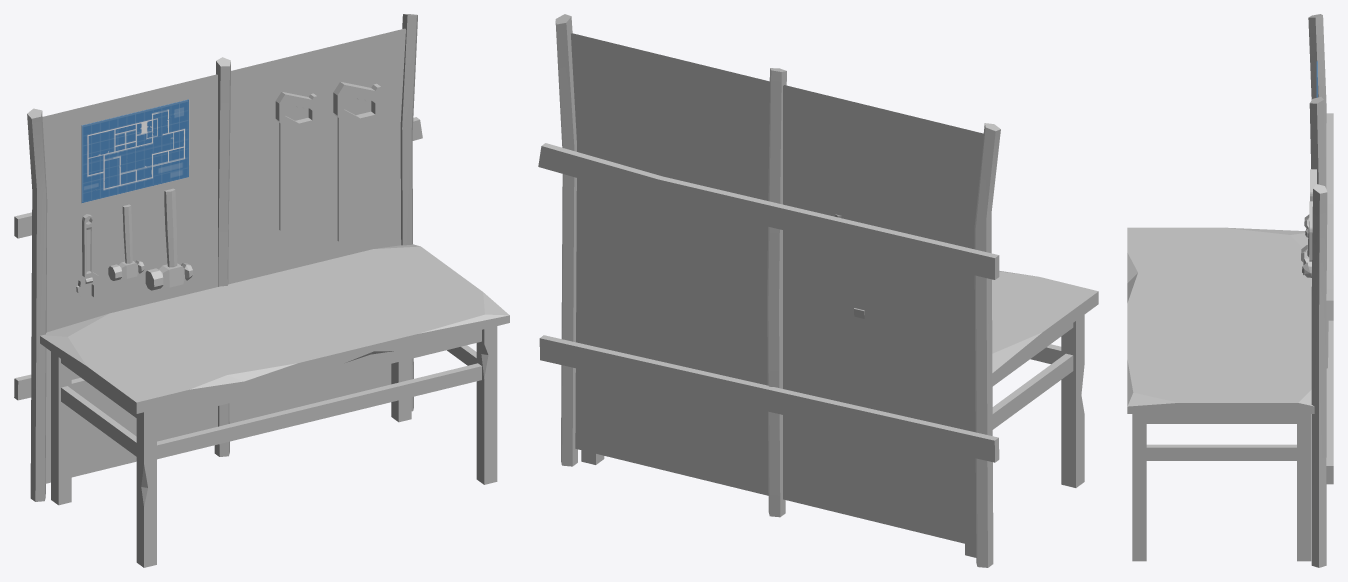
The model's file is Workbench.fbx.
3 renders of one model, left to right at view 1: azimuth 30°, elevation 25°; view 2: azimuth 150°, elevation 25°; view 3: azimuth 270°, elevation 25°, orthographic. The views are drawn at different scales.
Parts seen in each view (by area): view 1: Workbench, Plan, Handsaw_01, Handsaw_02, Hammer, Wrench, Hammer.001; view 2: Workbench; view 3: Workbench, Hammer.
Boxes of the visible parts, x1,y1,x2,y2 form: Workbench: [14, 14, 509, 567]; Plan: [81, 99, 189, 203]; Handsaw_01: [333, 81, 381, 241]; Handsaw_02: [275, 91, 317, 230]; Hammer: [145, 188, 193, 290]; Wrench: [76, 214, 102, 297]; Hammer.001: [108, 204, 144, 280]; Workbench: [538, 14, 1098, 567]; Workbench: [1127, 14, 1333, 567]; Hammer: [1301, 222, 1311, 277].
Size of the model in its own units: 2.18 by 2.03 by 0.9981.
